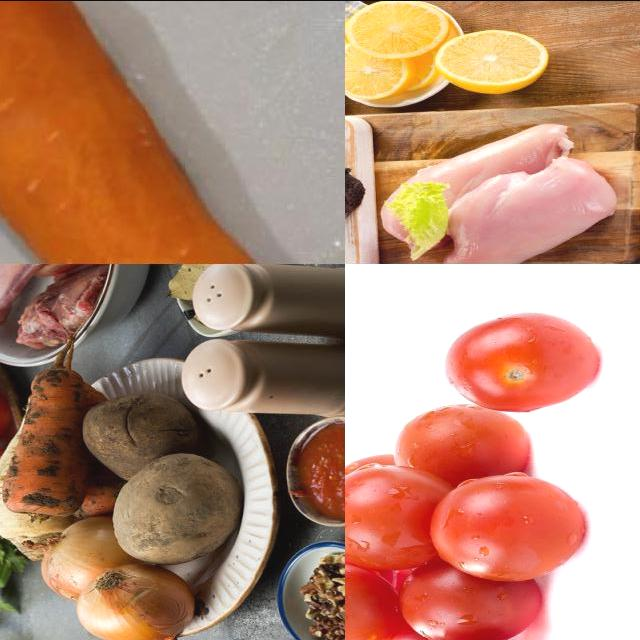carrot: (1, 1, 346, 264), (1, 365, 97, 517)
onion: (29, 511, 130, 611), (77, 566, 203, 640)
potato: (114, 457, 236, 561), (87, 394, 195, 485)
tomato: (442, 468, 596, 580), (438, 318, 601, 410), (378, 406, 542, 486), (396, 566, 537, 640), (346, 468, 449, 569), (346, 568, 393, 640)
